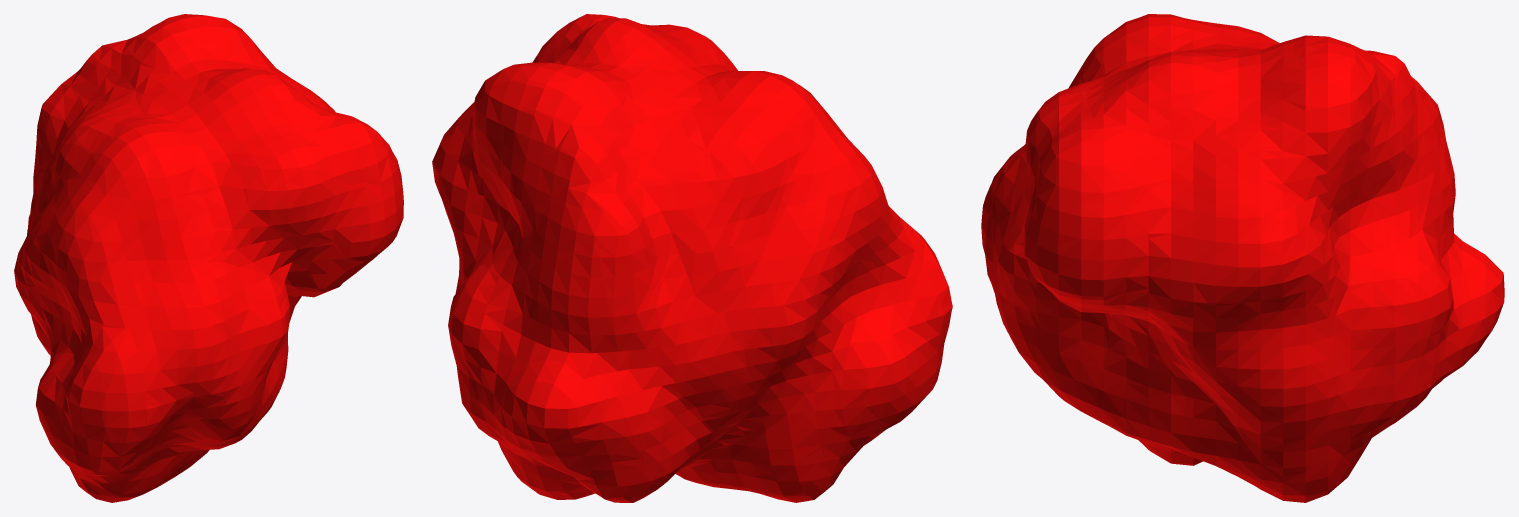
File: nagB_coarse.dae
3 renders of one model, left to right at view 1: azimuth 30°, elevation 25°; view 2: azimuth 150°, elevation 25°; view 3: azimuth 270°, elevation 25°, orthographic. The views are drawn at different scales.
Parts seen in each view (by area): view 1: nagB; view 2: nagB; view 3: nagB.
Boxes of the visible parts, <box> form: nagB: <box>14,14,403,502</box>; nagB: <box>432,14,952,502</box>; nagB: <box>981,14,1504,502</box>.
Bounding box in the file's own units: 48.58 × 51.05 × 52.01.
